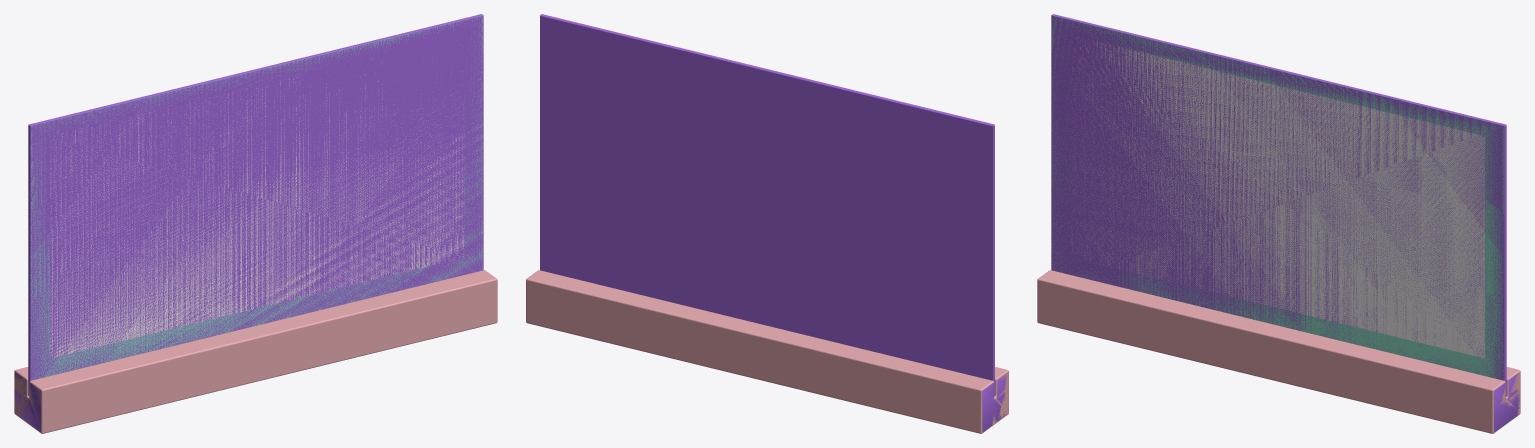
File: RM Information panel block.fbx
The picture shows the model from 3 angles, left to right: view 1: azimuth 30°, elevation 25°; view 2: azimuth 150°, elevation 25°; view 3: azimuth 330°, elevation 25°; orthographic projection.
Visible parts, largest first — view 1: Information panel block_PHYS, Information panel block_LOD0; view 2: Information panel block_PHYS, Information panel block_LOD0; view 3: Information panel block_LOD0, Information panel block_PHYS.
Part boxes in pixels (box(x1,y1,x2,y2)): Information panel block_PHYS: box(14, 14, 483, 432); Information panel block_LOD0: box(14, 16, 497, 433); Information panel block_PHYS: box(540, 14, 1006, 432); Information panel block_LOD0: box(526, 270, 1008, 433); Information panel block_LOD0: box(1037, 16, 1520, 433); Information panel block_PHYS: box(1051, 14, 1519, 432).
Size of what is drawn, in the model's own units: 676 by 424 by 71.46.
